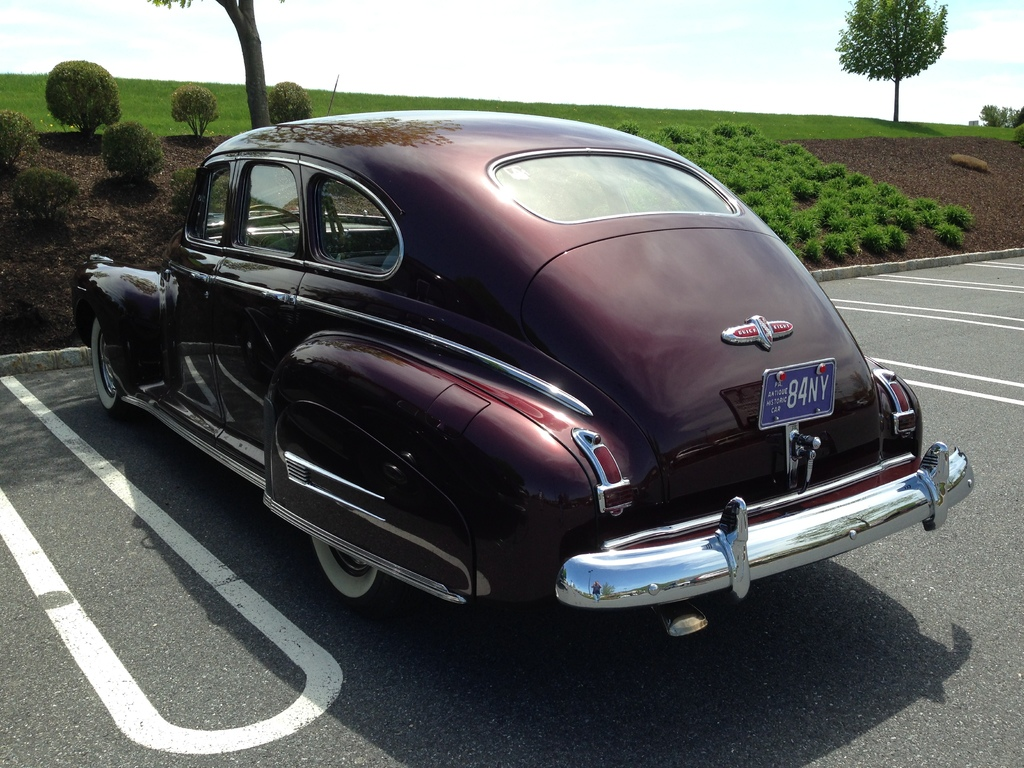Car: (68, 74, 975, 637)
